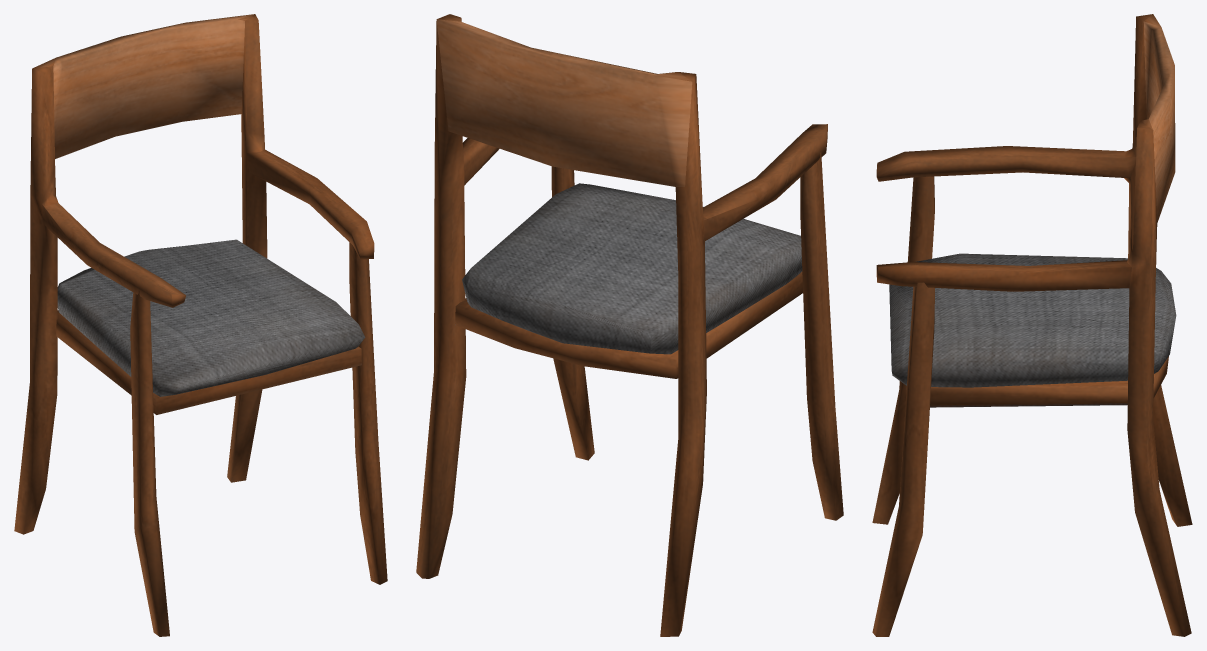
The model's file is desk_chair.glb.
The picture shows the model from 3 angles, left to right: view 1: azimuth 30°, elevation 25°; view 2: azimuth 150°, elevation 25°; view 3: azimuth 270°, elevation 25°; orthographic projection. The views are drawn at different scales.
Parts seen in each view (by area): view 1: danish_desk_chair.001; view 2: danish_desk_chair.001; view 3: danish_desk_chair.001.
Boxes of the visible parts, x1,y1,x2,y2 form: danish_desk_chair.001: [14, 14, 387, 636]; danish_desk_chair.001: [416, 14, 843, 636]; danish_desk_chair.001: [872, 14, 1192, 636].
Bounding box in the file's own units: 63.52 × 118 × 67.63.
Materials: 1 (1 with a texture image).
